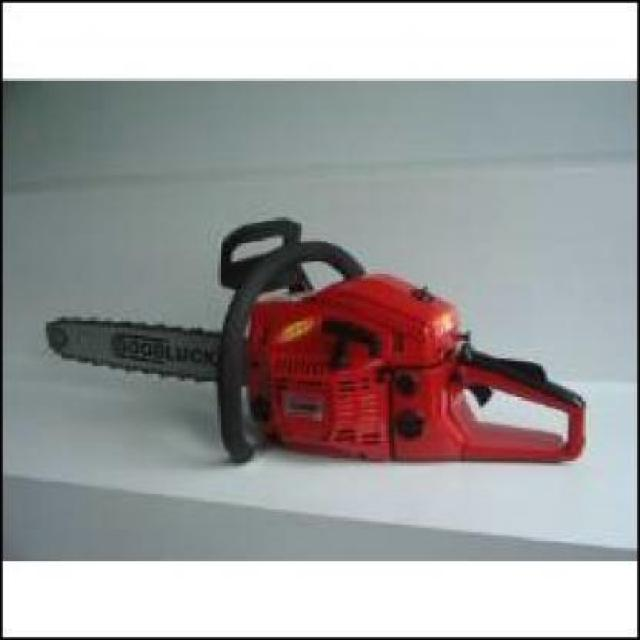Chainsaw: (45, 217, 588, 466)
